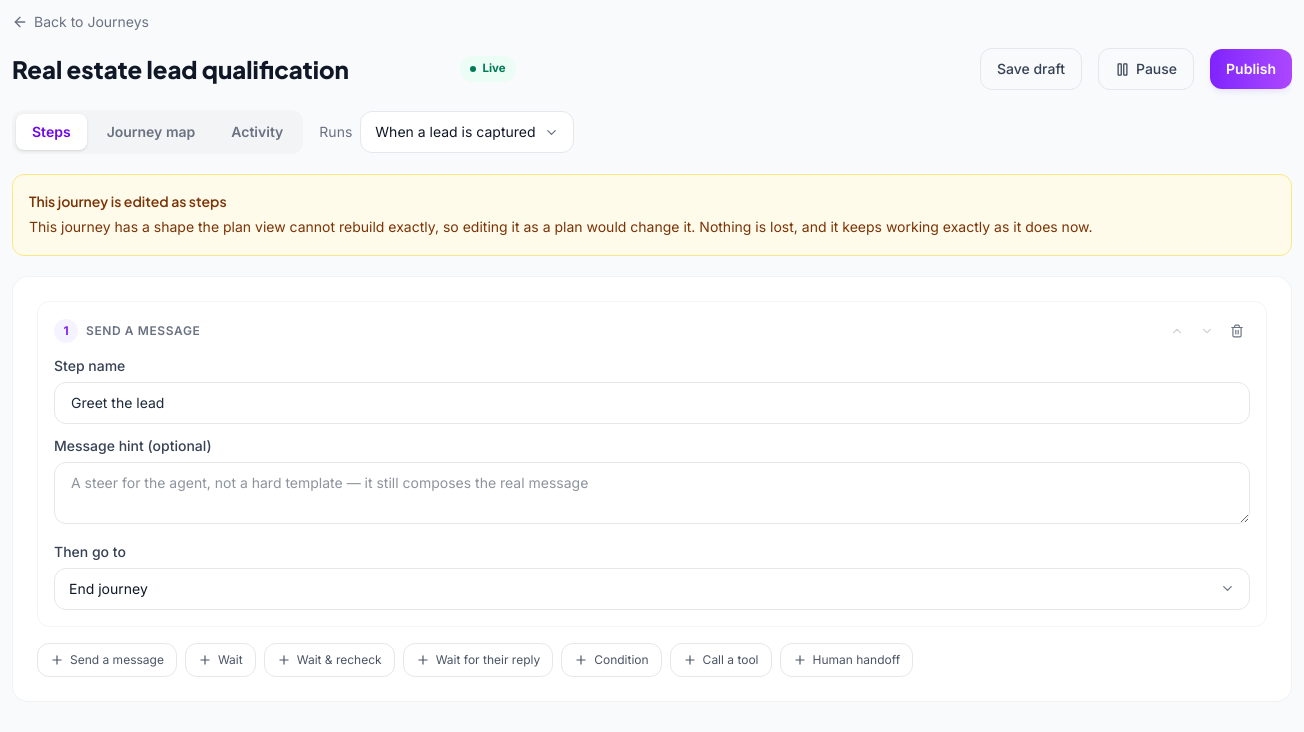
Test: pausing a live journey › shows the Paused badge and swaps Publish for Resume once paused
What coordinates should you click on to do the following:
click the button "Pause"
I would click on:
 (1146, 69)
Its box is [1098,48,1194,90].
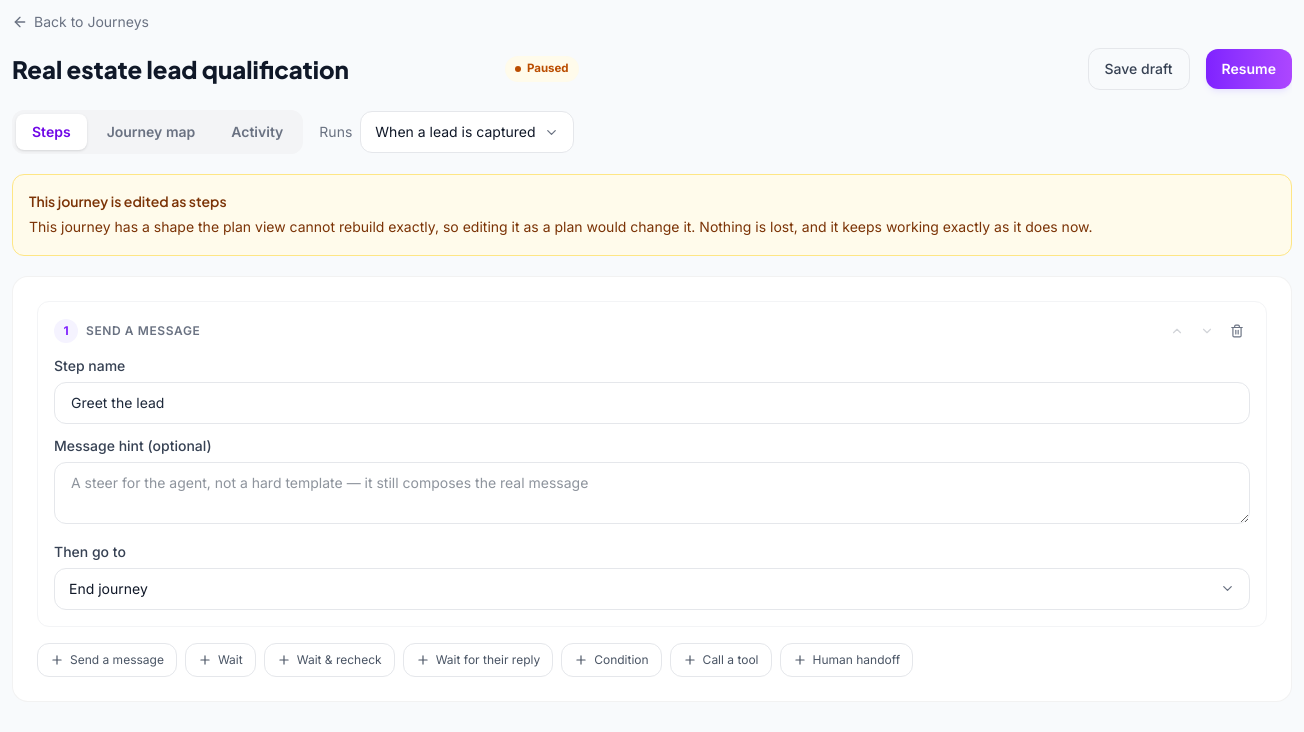
Now the text "Paused" is shown, box [505,56,579,82]
Now the button "Resume" is shown, box [1206,49,1292,89]
